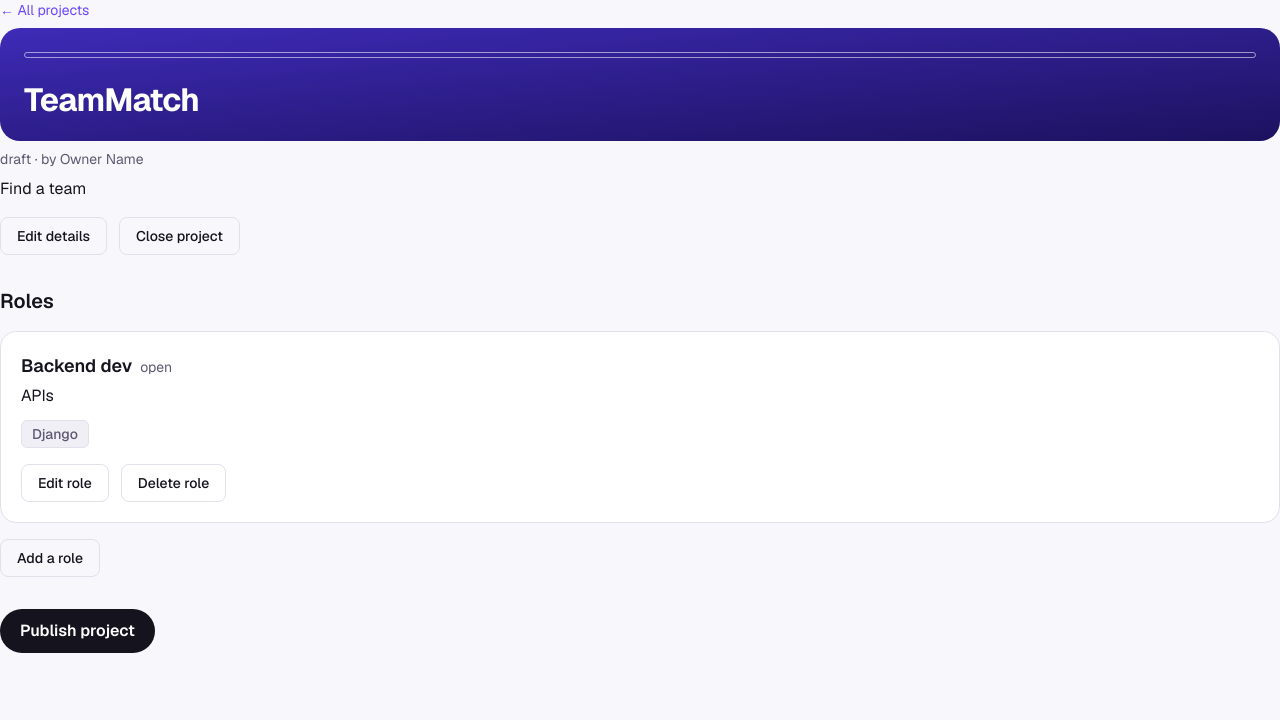
it: deletes a role after the owner confirms
Click the button "Delete role" at {"x": 174, "y": 483}, box [121,464,226,502]
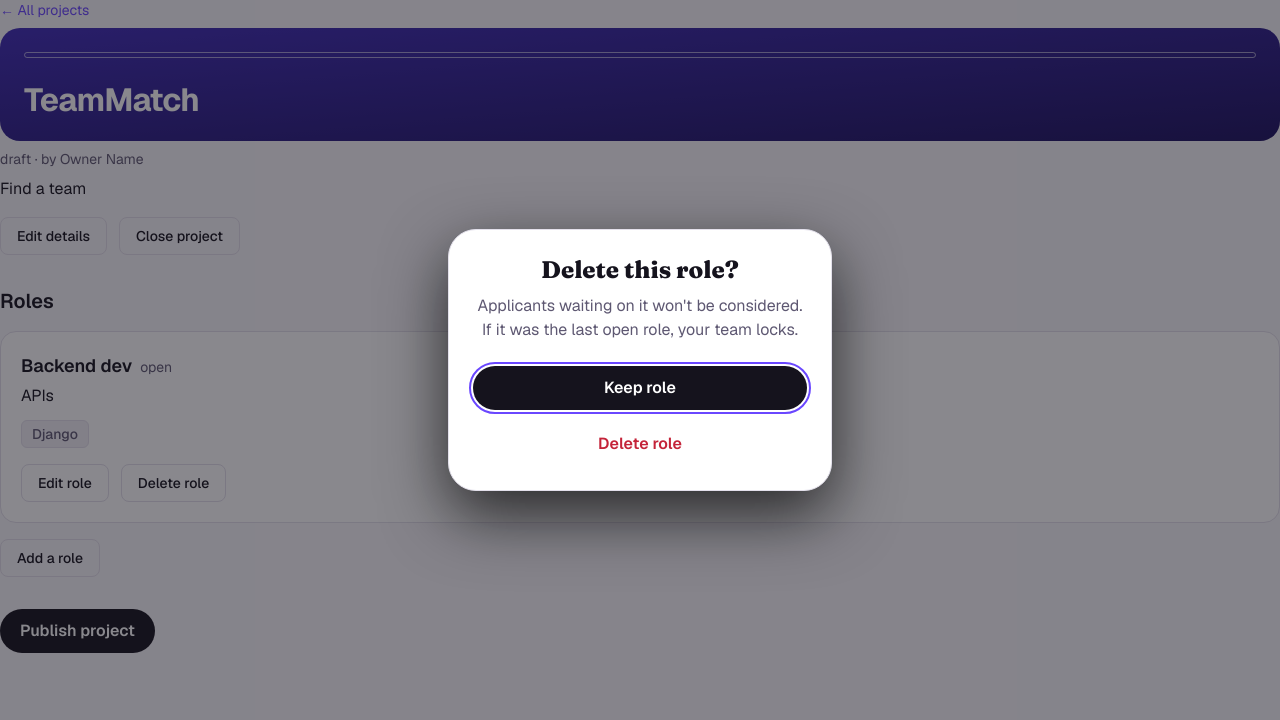
Click the button "Delete role" at {"x": 640, "y": 444}, box [578,422,702,466]
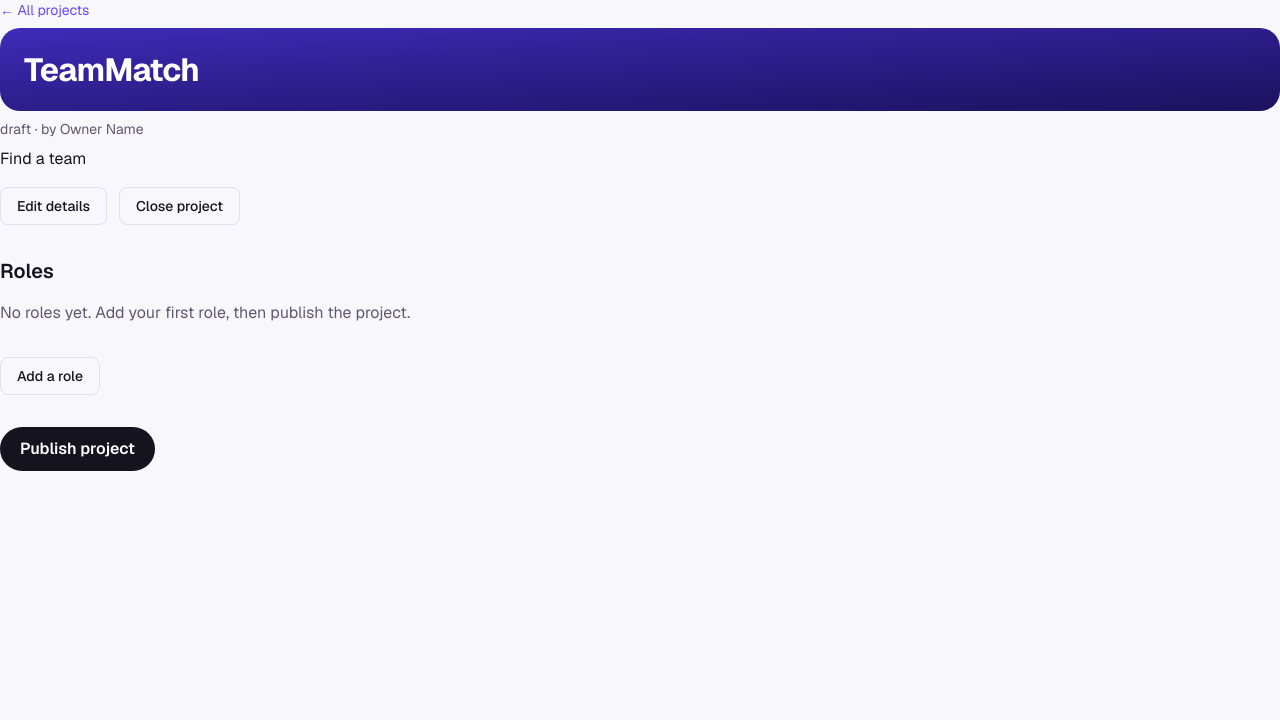
Check: the heading "Backend dev" is gone
